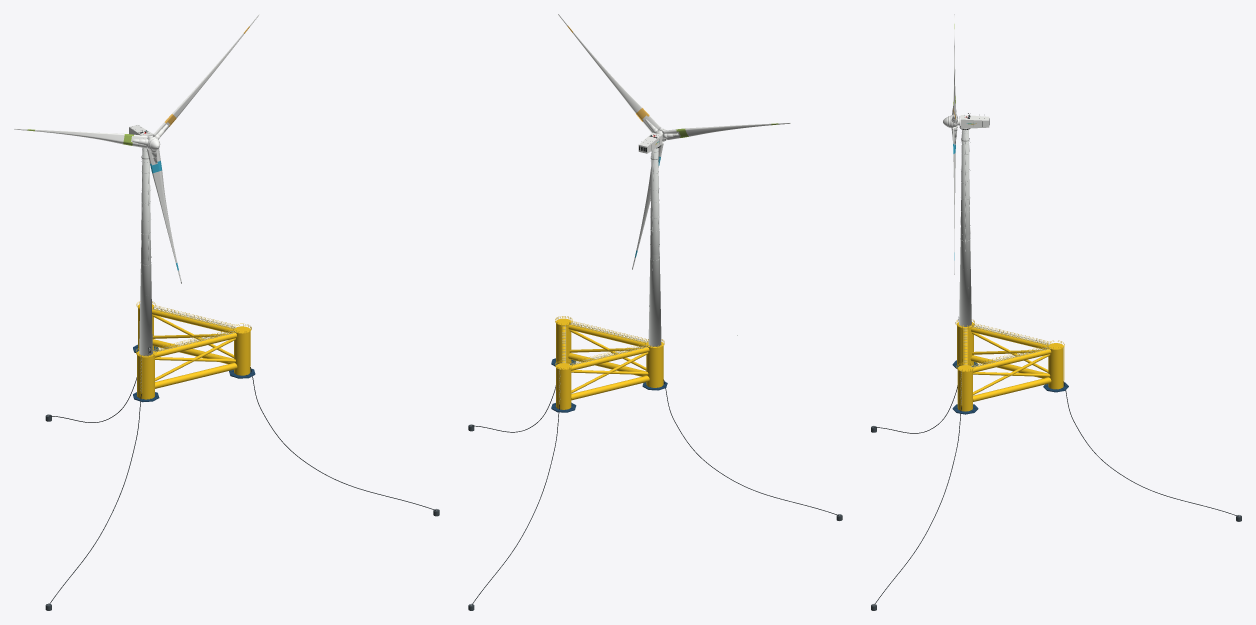
The model's file is plataforma_flotante.glb.
3 views of the same model, side by side, from view 1: azimuth 30°, elevation 25°; view 2: azimuth 150°, elevation 25°; view 3: azimuth 270°, elevation 25° (orthographic). The views are drawn at different scales.
Visible parts, largest first — view 1: TOWER_MONOLITH_continuous_metal_skin, torre_tubular_metalica_conica_escala_precisa_superdetallada, pala_1_70m_separada_0_grados_escala_precisa, pala_2_70m_separada_120_grados_escala_precisa, COLUMNA_1_amarilla, COLUMNA_2_amarilla, pala_3_70m_separada_240_grados_escala_precisa, PONTON_INFERIOR_0, VIGA_SUPERIOR_0; view 2: TOWER_MONOLITH_continuous_metal_skin, torre_tubular_metalica_conica_escala_precisa_superdetallada, pala_3_70m_separada_240_grados_escala_precisa, COLUMNA_1_amarilla, pala_2_70m_separada_120_grados_escala_precisa, COLUMNA_3_amarilla, PONTON_INFERIOR_2, VIGA_SUPERIOR_2, VIGA_SUPERIOR_0; view 3: TOWER_MONOLITH_continuous_metal_skin, torre_tubular_metalica_conica_escala_precisa_superdetallada, COLUMNA_2_amarilla, COLUMNA_3_amarilla, PONTON_INFERIOR_1, VIGA_SUPERIOR_1, VIGA_SUPERIOR_2.
Boxes of the visible parts, x1=… form: TOWER_MONOLITH_continuous_metal_skin: x1=139, y1=258, x2=152, y2=356; torre_tubular_metalica_conica_escala_precisa_superdetallada: x1=141, y1=147, x2=150, y2=259; pala_1_70m_separada_0_grados_escala_precisa: x1=147, y1=148, x2=181, y2=283; pala_2_70m_separada_120_grados_escala_precisa: x1=14, y1=128, x2=148, y2=148; COLUMNA_1_amarilla: x1=137, y1=355, x2=154, y2=399; COLUMNA_2_amarilla: x1=234, y1=331, x2=250, y2=375; pala_3_70m_separada_240_grados_escala_precisa: x1=152, y1=14, x2=259, y2=136; PONTON_INFERIOR_0: x1=155, y1=362, x2=237, y2=388; VIGA_SUPERIOR_0: x1=155, y1=332, x2=236, y2=357; TOWER_MONOLITH_continuous_metal_skin: x1=648, y1=254, x2=661, y2=346; torre_tubular_metalica_conica_escala_precisa_superdetallada: x1=650, y1=148, x2=659, y2=254; pala_3_70m_separada_240_grados_escala_precisa: x1=558, y1=14, x2=661, y2=132; COLUMNA_1_amarilla: x1=646, y1=346, x2=663, y2=387; pala_2_70m_separada_120_grados_escala_precisa: x1=662, y1=122, x2=790, y2=140; COLUMNA_3_amarilla: x1=556, y1=368, x2=571, y2=409; PONTON_INFERIOR_2: x1=571, y1=375, x2=649, y2=400; VIGA_SUPERIOR_2: x1=571, y1=346, x2=649, y2=370; VIGA_SUPERIOR_0: x1=568, y1=324, x2=646, y2=347; TOWER_MONOLITH_continuous_metal_skin: x1=959, y1=234, x2=971, y2=326; torre_tubular_metalica_conica_escala_precisa_superdetallada: x1=960, y1=128, x2=969, y2=235; COLUMNA_2_amarilla: x1=957, y1=370, x2=972, y2=411; COLUMNA_3_amarilla: x1=1048, y1=348, x2=1063, y2=389; PONTON_INFERIOR_1: x1=973, y1=377, x2=1051, y2=401; VIGA_SUPERIOR_1: x1=973, y1=348, x2=1051, y2=372; VIGA_SUPERIOR_2: x1=971, y1=326, x2=1048, y2=349.
Size of the model in its own units: 196 by 240 by 170.
